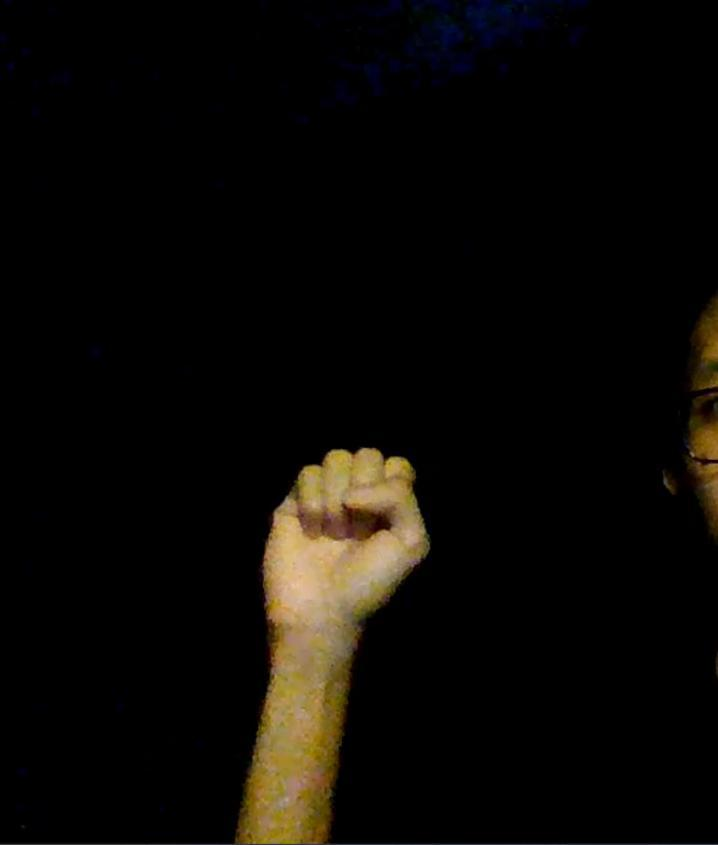s: (259, 446, 432, 629)
